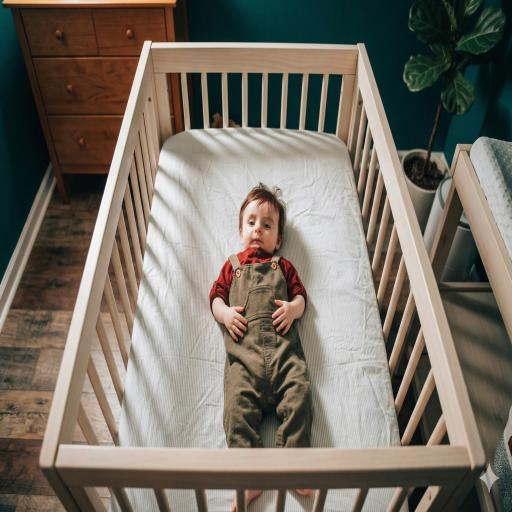baby: (210, 184, 312, 447)
crib: (91, 72, 432, 450)
